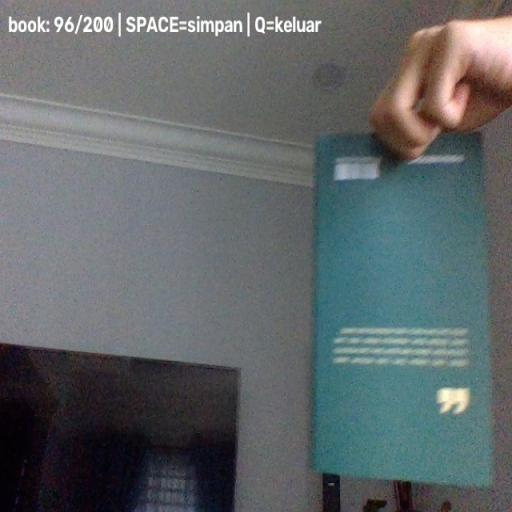Book: (312, 130, 494, 489)
